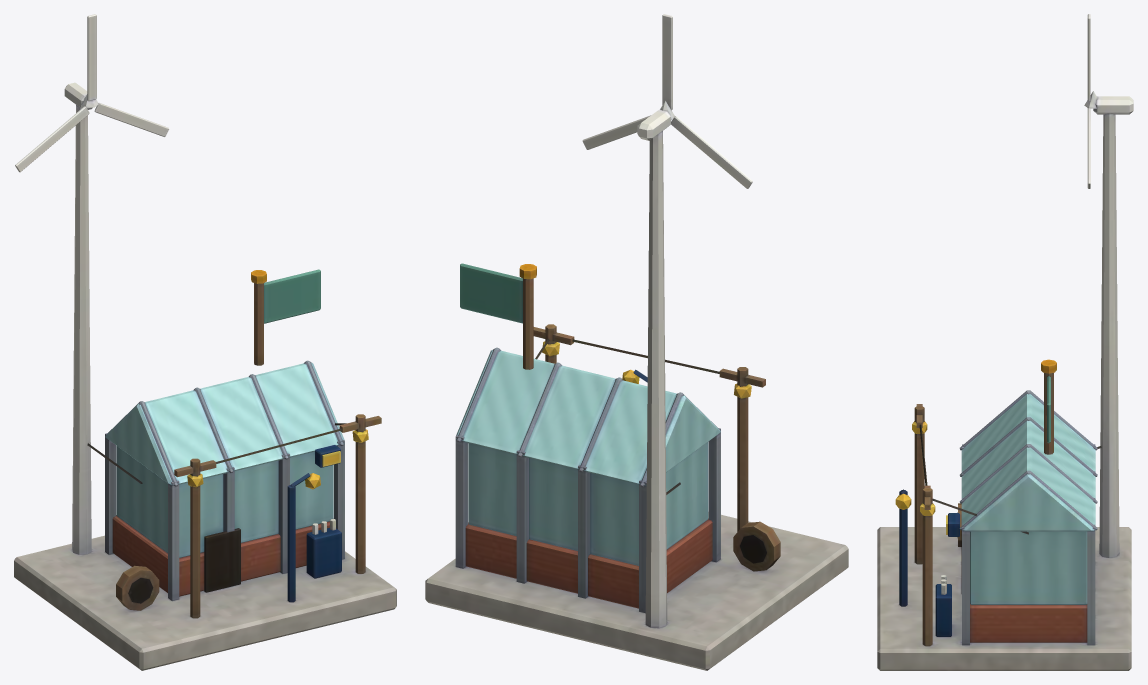
Rendered from refinery-20.glb.
The picture shows the model from 3 angles, left to right: view 1: azimuth 30°, elevation 25°; view 2: azimuth 150°, elevation 25°; view 3: azimuth 270°, elevation 25°; orthographic projection. The views are drawn at different scales.
Visible parts, largest first — view 1: refinery-20; view 2: refinery-20; view 3: refinery-20.
Part boxes in pixels (<box>): refinery-20: <box>14,14,396,670</box>; refinery-20: <box>425,14,848,670</box>; refinery-20: <box>877,14,1133,670</box>.
Bounding box in the file's own units: 1.61 × 3.06 × 1.27.
1 material, 1 textured.
